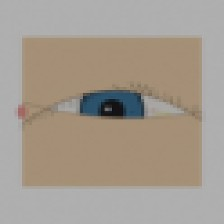pinguecula_lesion: (145, 102, 182, 132)
